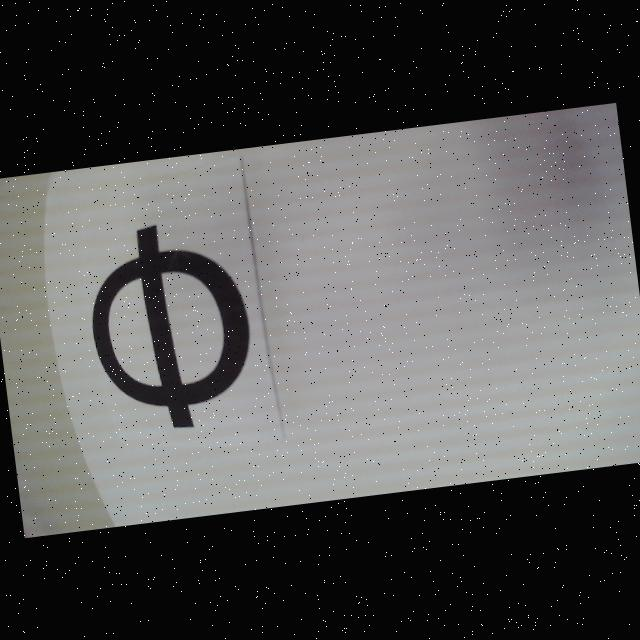PHI: (80, 214, 260, 437)
